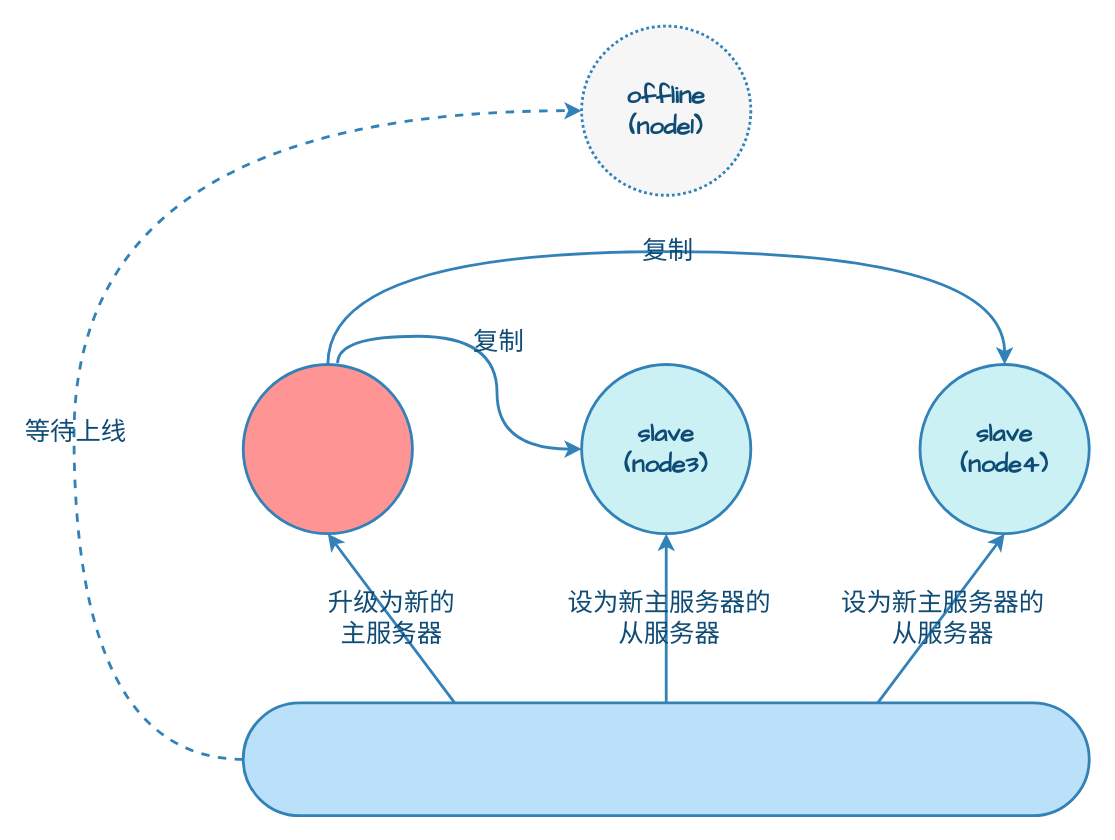
Some shapes in this 1115 by 840 pixel diagram are drawn without their labels. Each missing label, with the centre of its shape:
"master (node2)" belongs at (x=327, y=448).
"Sentinel" belongs at (x=665, y=758).
